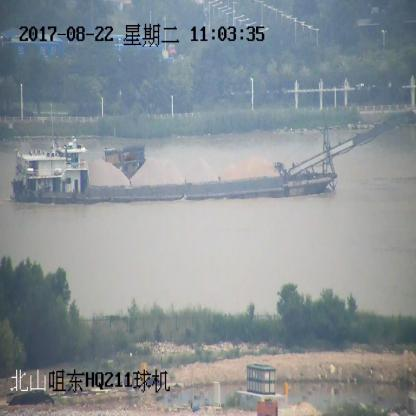Fishing Boat: (104, 148, 148, 174)
